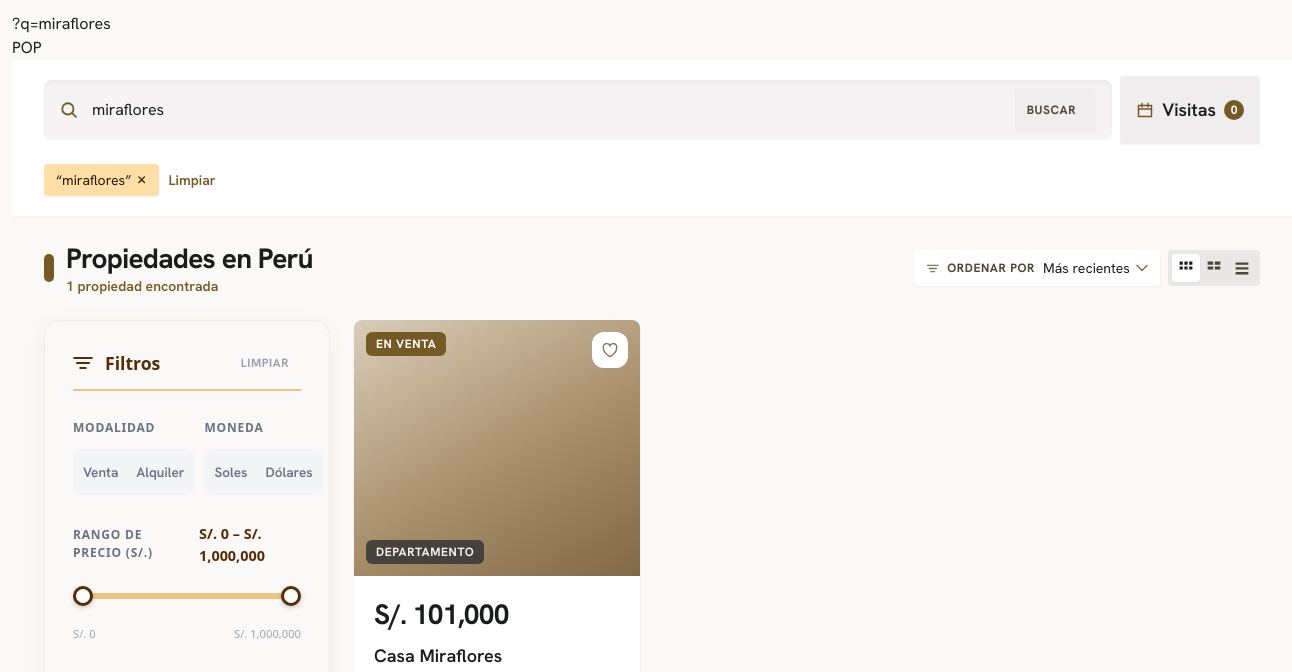
Scenario: PropertyList (integración del catálogo) › Búsqueda con debounce › quitar el chip de búsqueda vacía el input y la URL
Expected: the text "1 propiedad encontrada" is shown, [66,277,218,295]
Click the button named "Quitar filtro “miraflores”" at (142, 180), box [137,175,147,185]
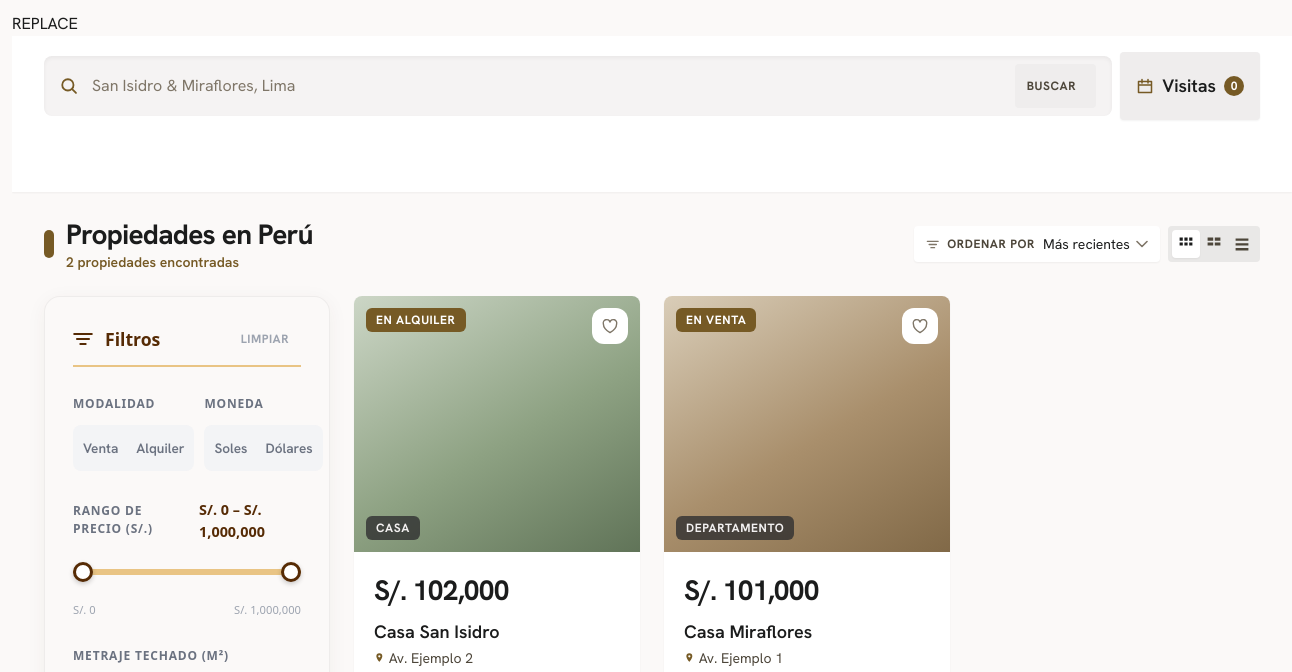
Expected: the search field named "Buscar propiedades" is empty, [90,73,1003,99]
Expected: the text "2 propiedades encontradas" is shown, [66,253,239,271]
